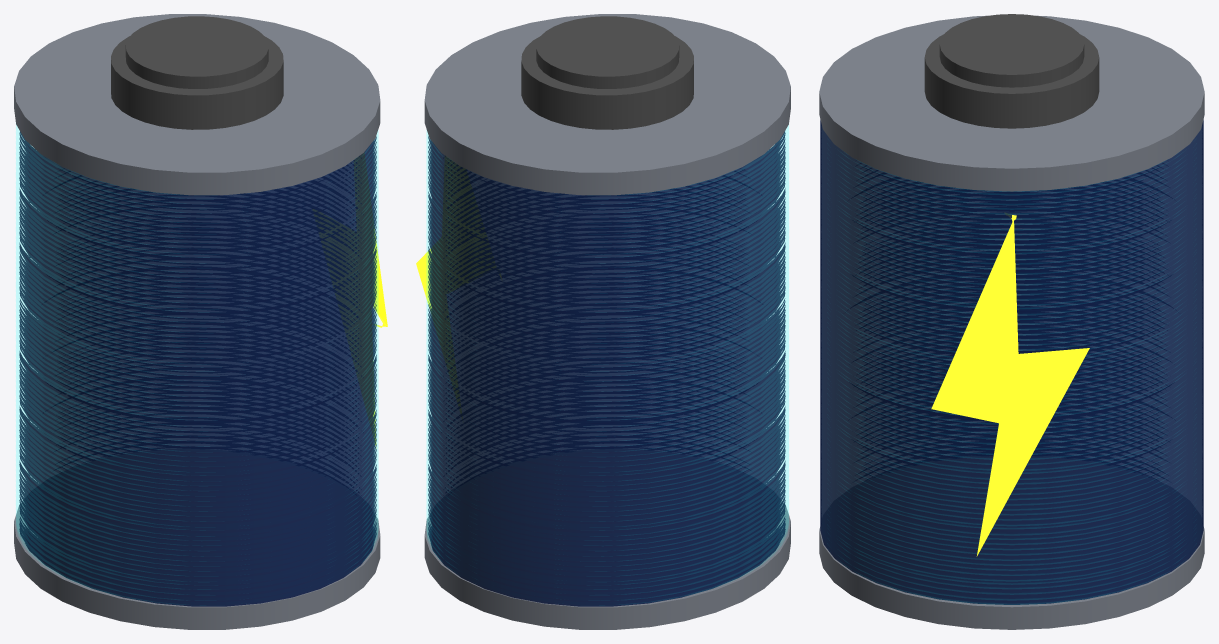
Rendered from Bateria.fbx.
3 renders of one model, left to right at view 1: azimuth 30°, elevation 25°; view 2: azimuth 150°, elevation 25°; view 3: azimuth 270°, elevation 25°, orthographic.
Parts seen in each view (by area): view 1: Cylinder, Cylinder.003, Cylinder.004, Cylinder.002, Cylinder.001, Plane; view 2: Cylinder, Cylinder.003, Cylinder.004, Cylinder.002, Cylinder.001; view 3: Cylinder, Cylinder.003, Plane, Cylinder.004, Cylinder.002, Cylinder.001.
Boxes of the visible parts, left/top/right/bottom form: Cylinder: left=19, top=131, right=376, bottom=606; Cylinder.003: left=14, top=14, right=380, bottom=195; Cylinder.004: left=14, top=500, right=380, bottom=629; Cylinder.002: left=125, top=16, right=268, bottom=88; Cylinder.001: left=111, top=36, right=283, bottom=129; Plane: left=373, top=229, right=387, bottom=448; Cylinder: left=428, top=131, right=785, bottom=606; Cylinder.003: left=424, top=14, right=790, bottom=195; Cylinder.004: left=424, top=500, right=790, bottom=629; Cylinder.002: left=536, top=16, right=679, bottom=88; Cylinder.001: left=521, top=36, right=693, bottom=129; Cylinder: left=820, top=120, right=1203, bottom=604; Cylinder.003: left=819, top=15, right=1204, bottom=191; Plane: left=931, top=215, right=1089, bottom=556; Cylinder.004: left=819, top=527, right=1204, bottom=629; Cylinder.002: left=939, top=14, right=1084, bottom=87; Cylinder.001: left=924, top=34, right=1099, bottom=128.
Size of the model in its own units: 145 by 216 by 148.
